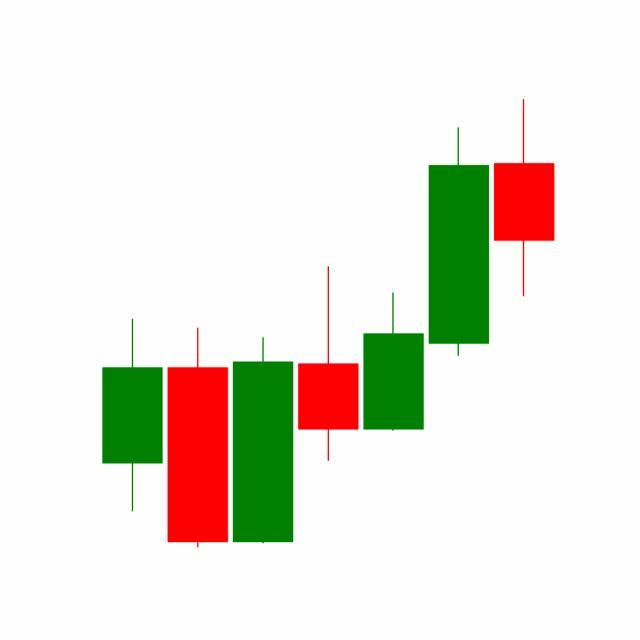Hikkake Pattern: (165, 123, 492, 548)
